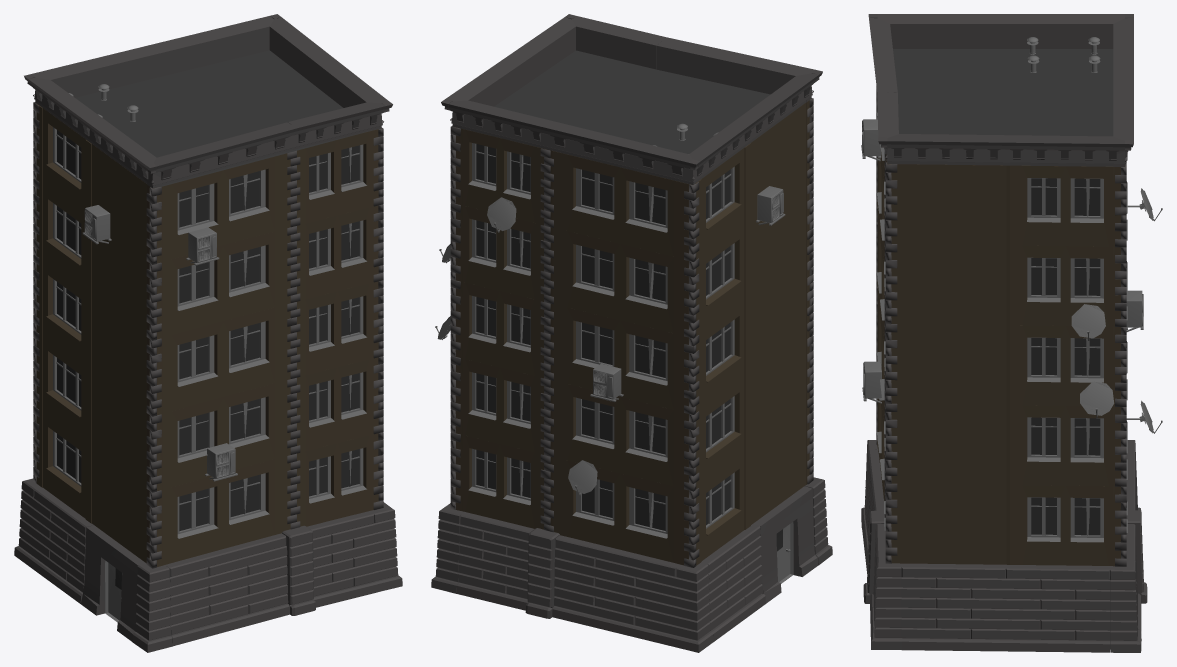
The picture shows the model from 3 angles, left to right: view 1: azimuth 30°, elevation 25°; view 2: azimuth 150°, elevation 25°; view 3: azimuth 270°, elevation 25°; orthographic projection. The views are drawn at different scales.
Visible parts, largest first — view 1: Plane.020, middle_floor_wall_02.513, ground_floor_wall_02.113, middle_floor_wall_02.511, middle_floor_wall_02.514, middle_floor_wall_02.515, middle_floor_wall_02.512, middle_floor_wall_02.498, middle_floor_wall_02.499, middle_floor_wall_02.497, middle_floor_wall_02.496, middle_floor_wall_02.500 (+43 smaller); view 2: Plane.020, middle_floor_wall_02.510, middle_floor_wall_02.509, ground_floor_wall_02.112, middle_floor_wall_02.507, middle_floor_wall_02.506, middle_floor_wall_02.508, middle_floor_wall_02.502, middle_floor_wall_02.503, middle_floor_wall_02.501, middle_floor_wall_02.504, middle_floor_wall_02.505 (+44 smaller); view 3: Plane.020, ground_floor_wall_02.108, ground_floor_wall_02.109, middle_floor_wall_01.247, middle_floor_wall_01.243, middle_floor_wall_01.246, middle_floor_wall_01.244, middle_floor_wall_01.245, middle_floor_wall_02.495, middle_floor_wall_02.491, middle_floor_wall_02.492, middle_floor_wall_02.494 (+36 smaller).
Boxes of the visible parts, bbox=[...] form: Plane.020: bbox=[75, 50, 379, 186]; middle_floor_wall_02.513: bbox=[147, 304, 290, 415]; ground_floor_wall_02.113: bbox=[165, 533, 289, 646]; middle_floor_wall_02.511: bbox=[147, 456, 290, 566]; middle_floor_wall_02.514: bbox=[147, 228, 290, 339]; middle_floor_wall_02.515: bbox=[147, 153, 290, 263]; middle_floor_wall_02.512: bbox=[147, 380, 290, 491]; middle_floor_wall_02.498: bbox=[296, 281, 378, 376]; middle_floor_wall_02.499: bbox=[296, 205, 378, 300]; middle_floor_wall_02.497: bbox=[297, 357, 378, 452]; middle_floor_wall_02.496: bbox=[297, 433, 378, 526]; middle_floor_wall_02.500: bbox=[297, 128, 381, 224]; Plane.020: bbox=[494, 50, 770, 153]; middle_floor_wall_02.510: bbox=[549, 150, 691, 259]; middle_floor_wall_02.509: bbox=[550, 227, 688, 335]; ground_floor_wall_02.112: bbox=[552, 535, 680, 646]; middle_floor_wall_02.507: bbox=[550, 380, 688, 488]; middle_floor_wall_02.506: bbox=[550, 457, 688, 565]; middle_floor_wall_02.508: bbox=[550, 304, 688, 412]; middle_floor_wall_02.502: bbox=[455, 358, 543, 454]; middle_floor_wall_02.503: bbox=[455, 282, 543, 378]; middle_floor_wall_02.501: bbox=[455, 435, 543, 529]; middle_floor_wall_02.504: bbox=[455, 205, 543, 301]; middle_floor_wall_02.505: bbox=[453, 126, 546, 225]; Plane.020: bbox=[887, 49, 1113, 162]; ground_floor_wall_02.108: bbox=[901, 563, 1005, 651]; ground_floor_wall_02.109: bbox=[1005, 564, 1110, 652]; middle_floor_wall_01.247: bbox=[887, 164, 1006, 245]; middle_floor_wall_01.243: bbox=[891, 483, 1006, 564]; middle_floor_wall_01.246: bbox=[891, 244, 1006, 325]; middle_floor_wall_01.244: bbox=[891, 403, 1006, 484]; middle_floor_wall_01.245: bbox=[891, 324, 1006, 404]; middle_floor_wall_02.495: bbox=[1006, 165, 1120, 246]; middle_floor_wall_02.491: bbox=[1006, 485, 1120, 566]; middle_floor_wall_02.492: bbox=[1006, 405, 1120, 486]; middle_floor_wall_02.494: bbox=[1006, 245, 1120, 326].
Size of the model in its own units: 1187 by 1918 by 1037.
